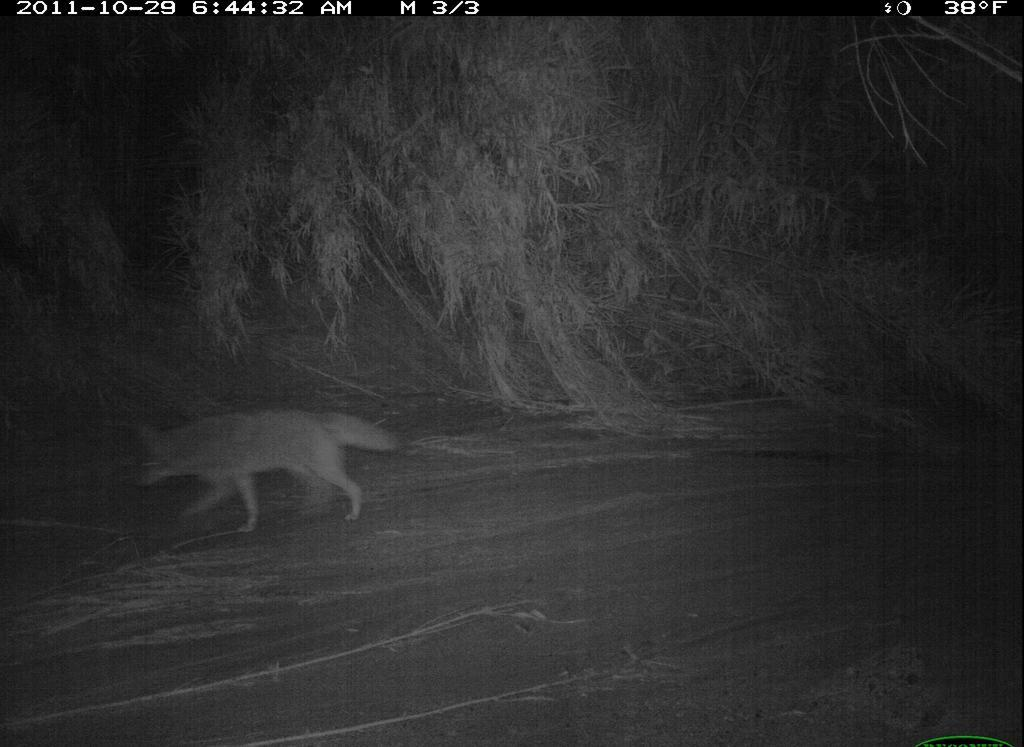coyote: (127, 404, 404, 539)
